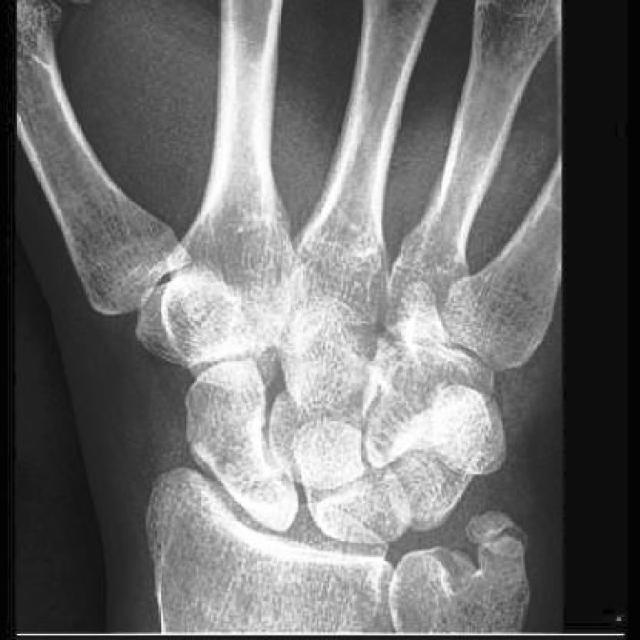Fracture: (225, 454, 299, 499)
